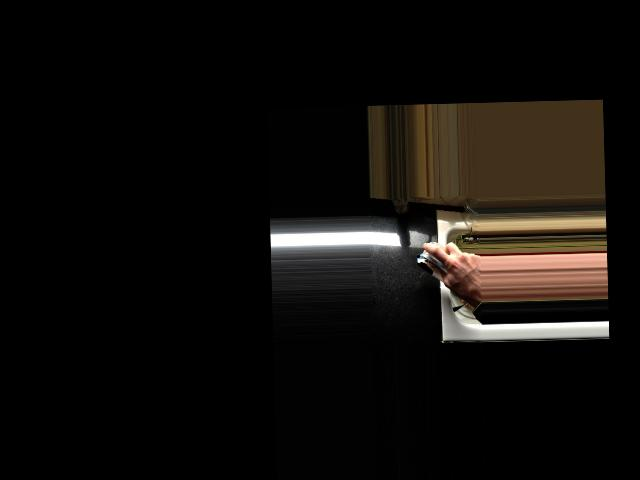cheese: (413, 243, 478, 292)
